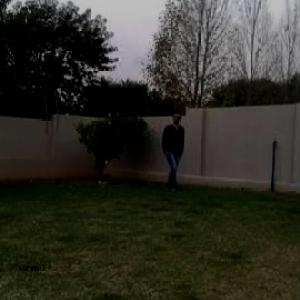follow: (164, 113, 182, 187)
